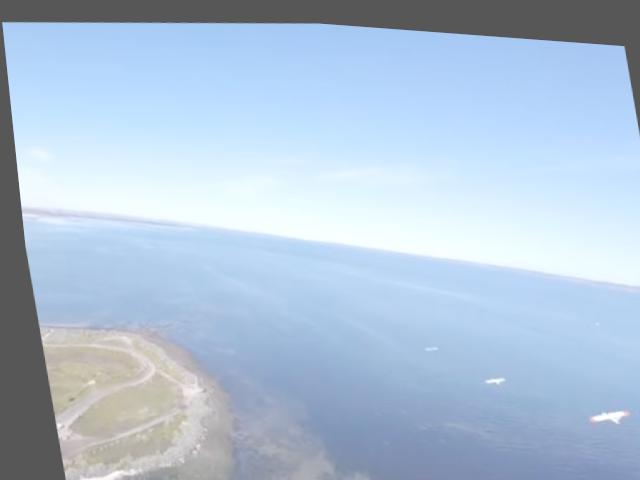uav: (578, 394, 624, 419), (475, 367, 500, 377)
